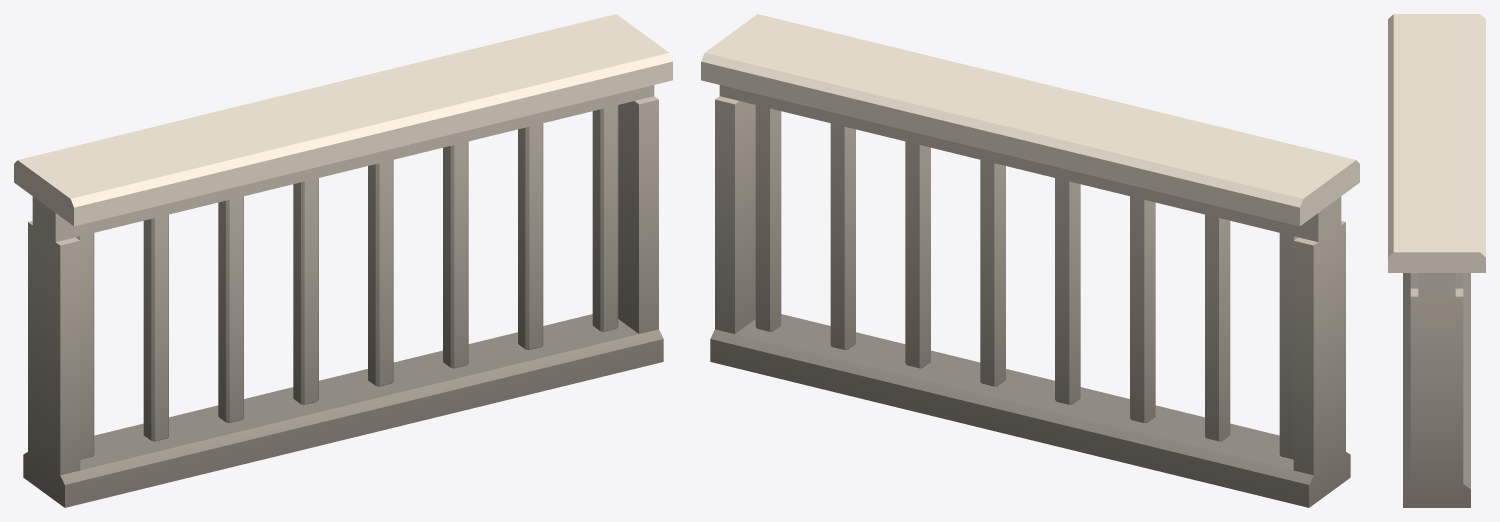
Rendered from SM_VKI_Prop_AltarRail_150.fbx.
The picture shows the model from 3 angles, left to right: view 1: azimuth 30°, elevation 25°; view 2: azimuth 150°, elevation 25°; view 3: azimuth 270°, elevation 25°; orthographic projection. The views are drawn at different scales.
Parts seen in each view (by area): view 1: SM_VKI_Prop_AltarRail_150.001; view 2: SM_VKI_Prop_AltarRail_150.001; view 3: SM_VKI_Prop_AltarRail_150.001.
Boxes of the visible parts, <box> form: SM_VKI_Prop_AltarRail_150.001: <box>14,14,672,507</box>; SM_VKI_Prop_AltarRail_150.001: <box>701,14,1359,507</box>; SM_VKI_Prop_AltarRail_150.001: <box>1388,14,1485,507</box>.
Bounding box in the file's own units: 1.5 × 0.75 × 0.26.
